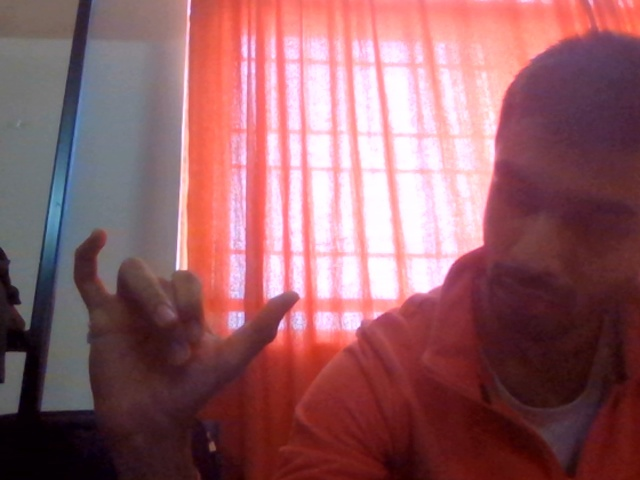Y: (67, 221, 325, 439)
